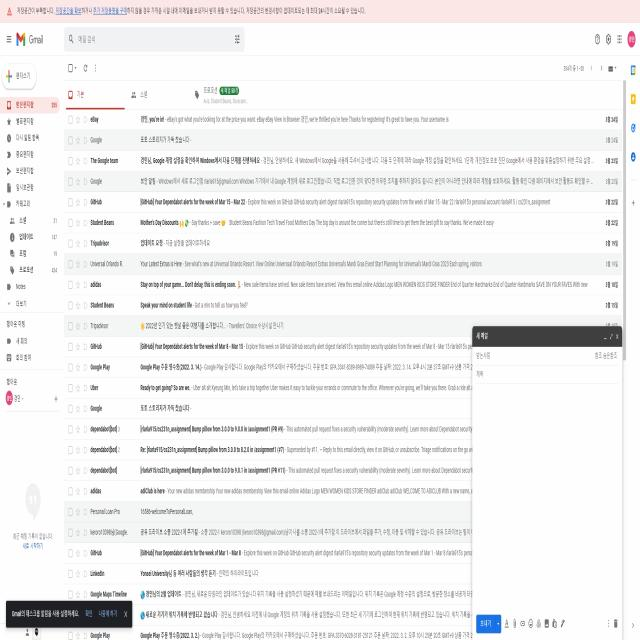menu-bar: (594, 29, 637, 49)
search: (64, 26, 244, 49)
